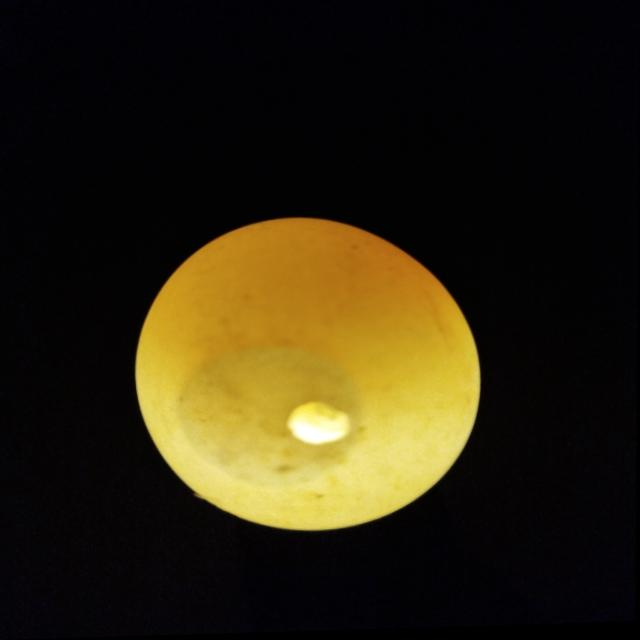Camara de Ar: (179, 348, 364, 488)
